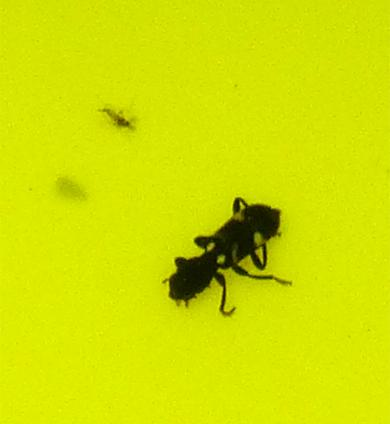Coleoptera: (160, 194, 290, 324)
Nematocera: (100, 100, 141, 132)
